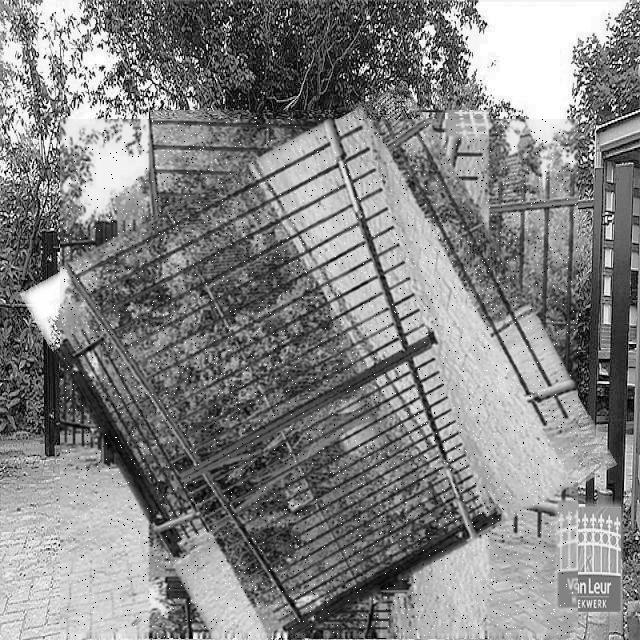fences: (60, 120, 578, 638)
